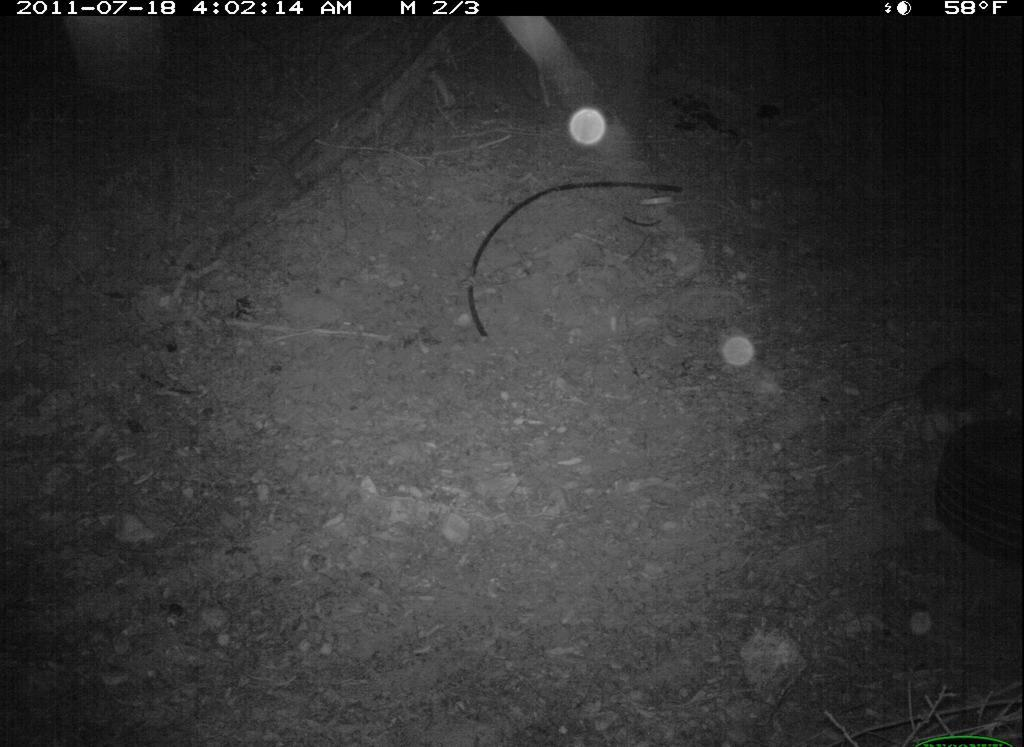opossum: (858, 354, 1005, 427)
